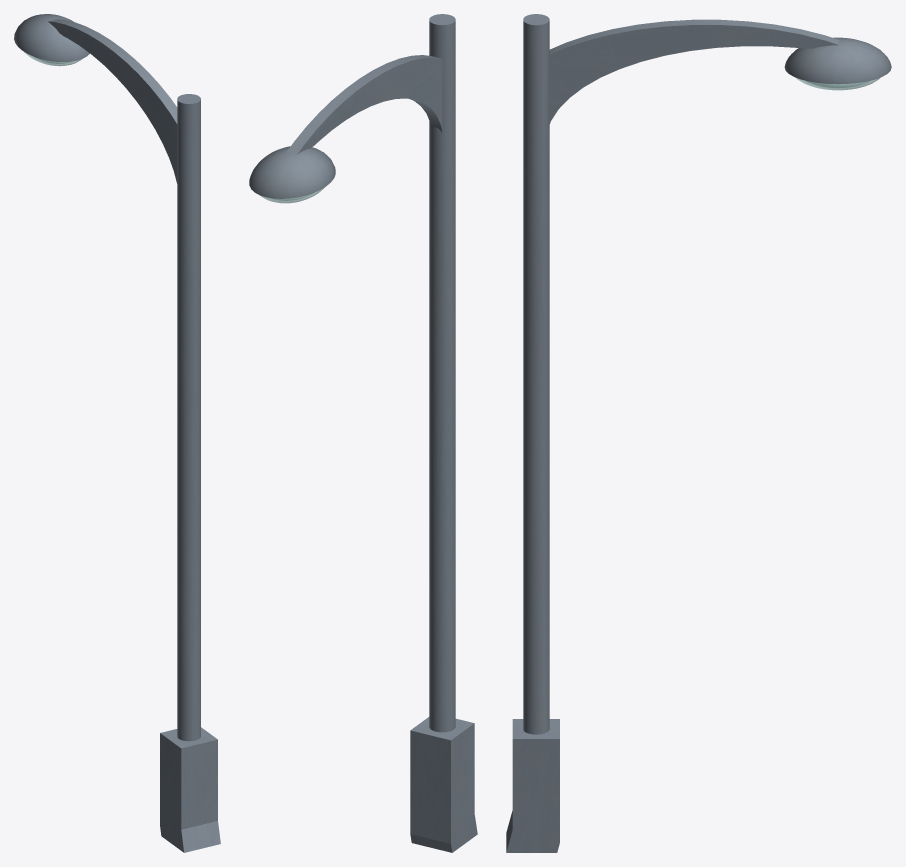
Rendered from poste-luz-01.obj.
The picture shows the model from 3 angles, left to right: view 1: azimuth 30°, elevation 25°; view 2: azimuth 150°, elevation 25°; view 3: azimuth 270°, elevation 25°; orthographic projection. The views are drawn at different scales.
Visible parts, largest first — view 1: Cylinder001, Box002, Box003, Sphere001; view 2: Cylinder001, Box002, Box003, Sphere001; view 3: Cylinder001, Box003, Box002, Sphere001.
Boxes of the visible parts, left/top/right/bottom form: Cylinder001: left=177, top=94, right=200, bottom=741; Box002: left=160, top=727, right=220, bottom=852; Box003: left=48, top=19, right=177, bottom=183; Sphere001: left=14, top=14, right=89, bottom=61; Cylinder001: left=429, top=14, right=455, bottom=732; Box002: left=410, top=717, right=477, bottom=852; Box003: left=287, top=55, right=442, bottom=154; Sphere001: left=249, top=146, right=335, bottom=198; Cylinder001: left=523, top=14, right=549, bottom=734; Box003: left=548, top=19, right=839, bottom=127; Box002: left=506, top=719, right=559, bottom=852; Sphere001: left=784, top=37, right=891, bottom=84.
Bounding box in the file's own units: 14.86 × 170 × 72.17.
